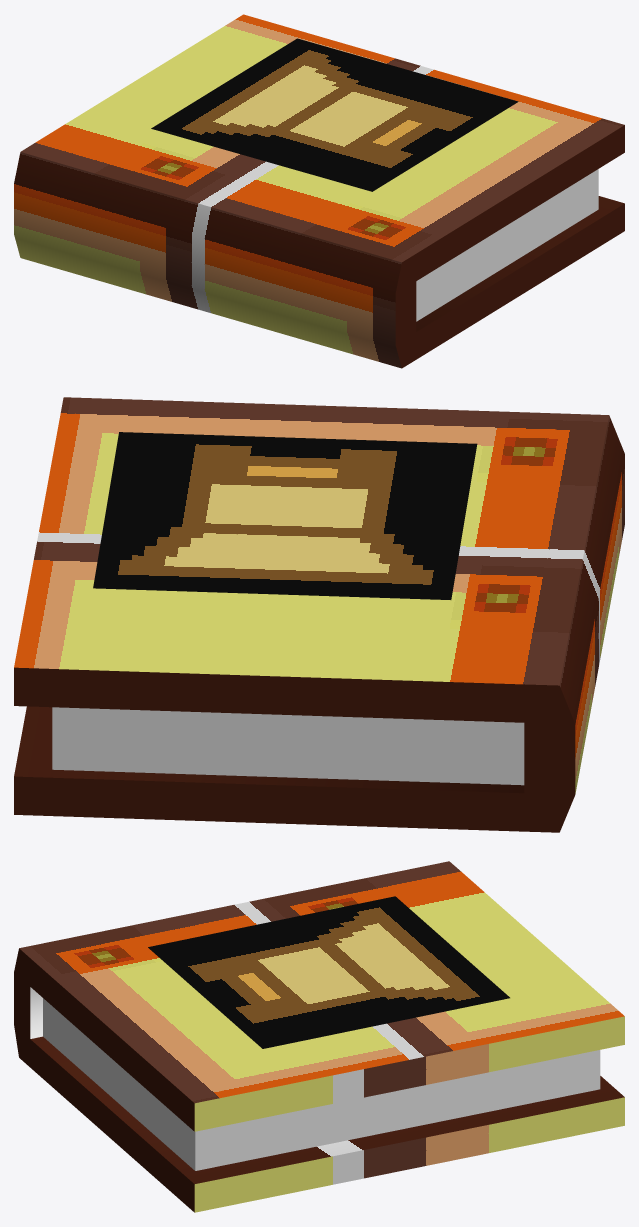
The picture shows the model from 3 angles, top to bottom: view 1: azimuth 30°, elevation 25°; view 2: azimuth 150°, elevation 25°; view 3: azimuth 270°, elevation 25°; orthographic projection. The views are drawn at different scales.
Parts seen in each view (by area): view 1: 5256so_book_cl0; view 2: 5256so_book_cl0; view 3: 5256so_book_cl0.
Part boxes in pixels (x1,y1,x2,y2): 5256so_book_cl0: (14,14,624,368); 5256so_book_cl0: (14,397,624,832); 5256so_book_cl0: (14,861,624,1212).
Size of the model in its own units: 0.6206 by 0.1489 by 0.6499.
Materials: 2 (2 with a texture image).
